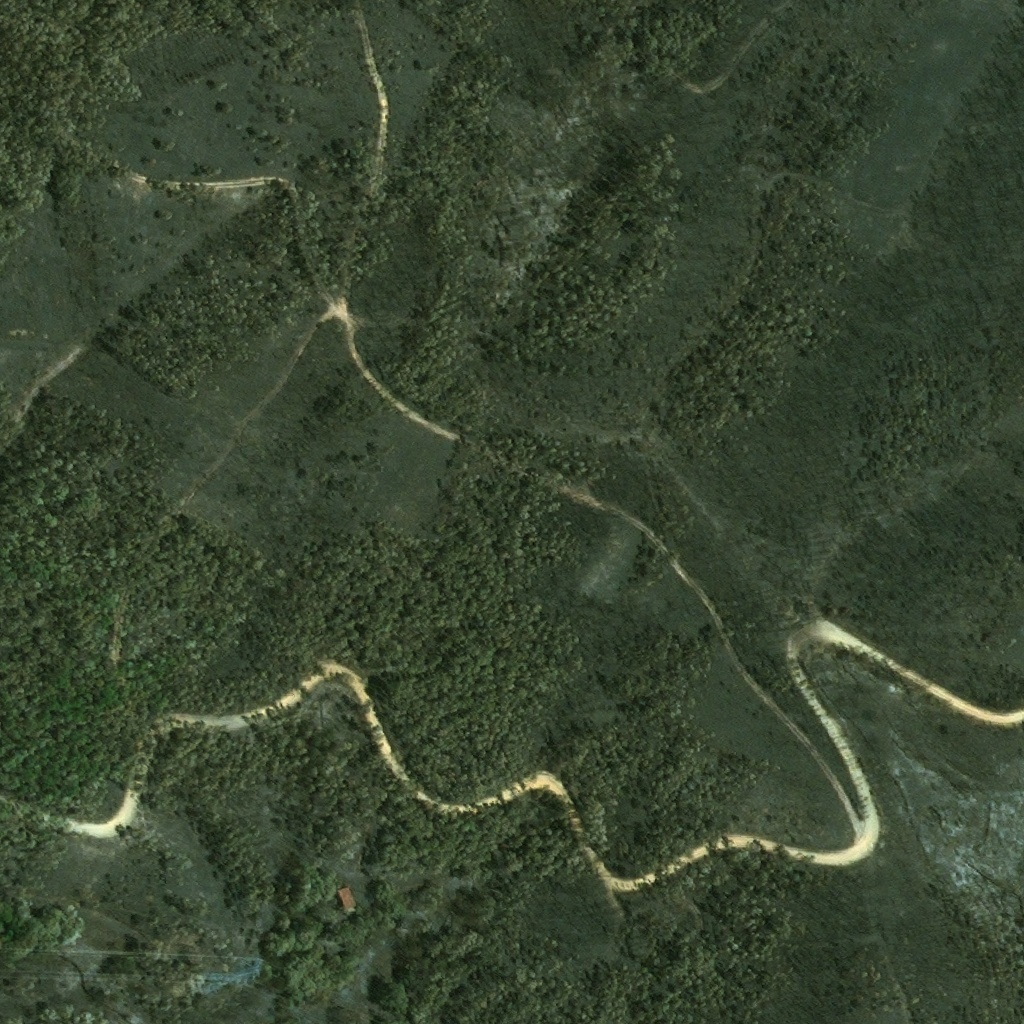1 minor-damage: (337, 884, 361, 915)
